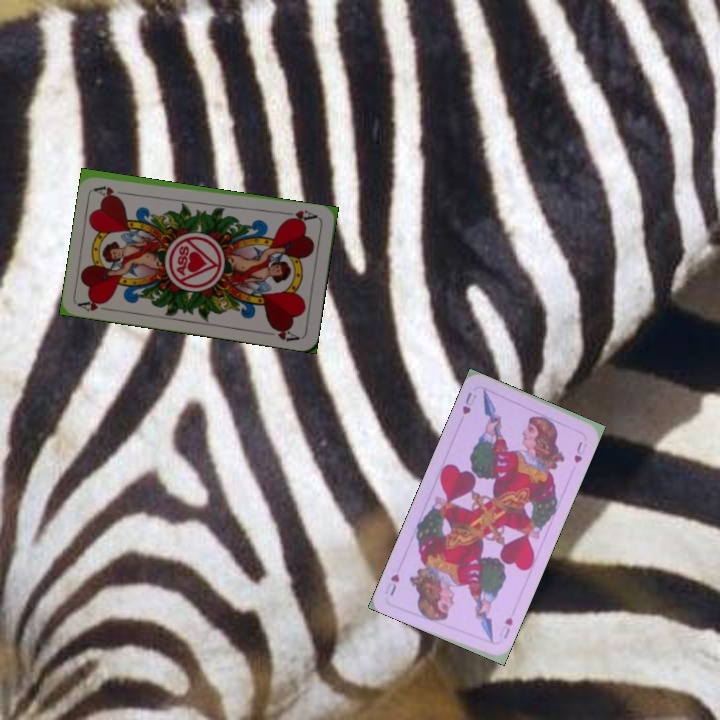HA: (75, 294, 115, 314), (280, 206, 320, 225)
HU: (458, 388, 479, 417), (500, 613, 516, 641)
